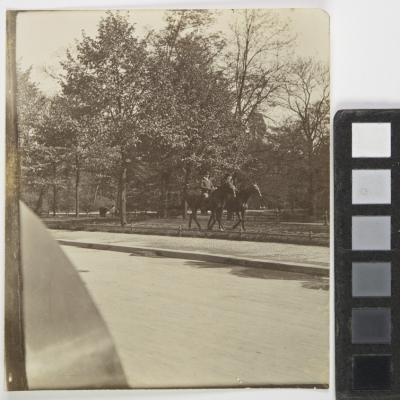photos_negatives: (10, 8, 337, 392)
